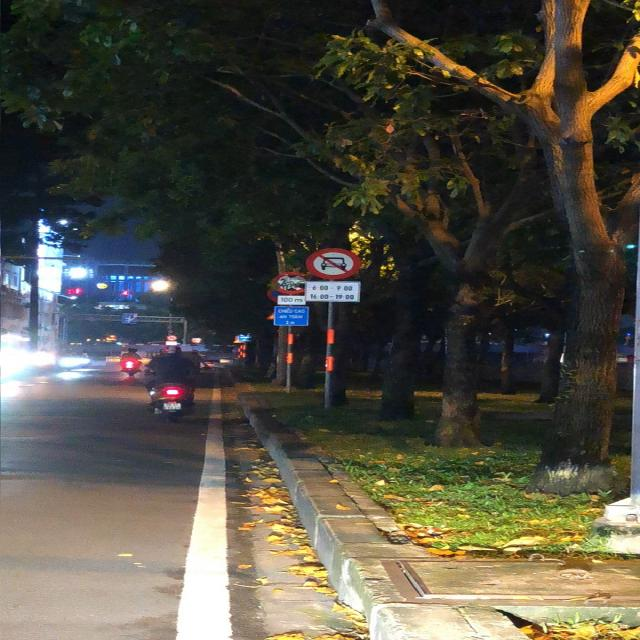Bien bao cam xe oto: (301, 246, 365, 281)
